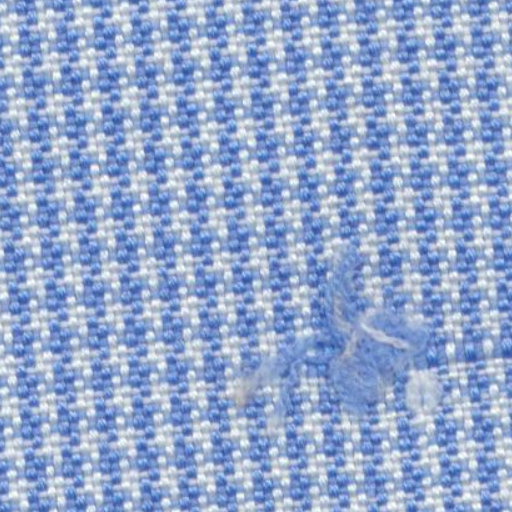MianQiu: (289, 290, 438, 416)
